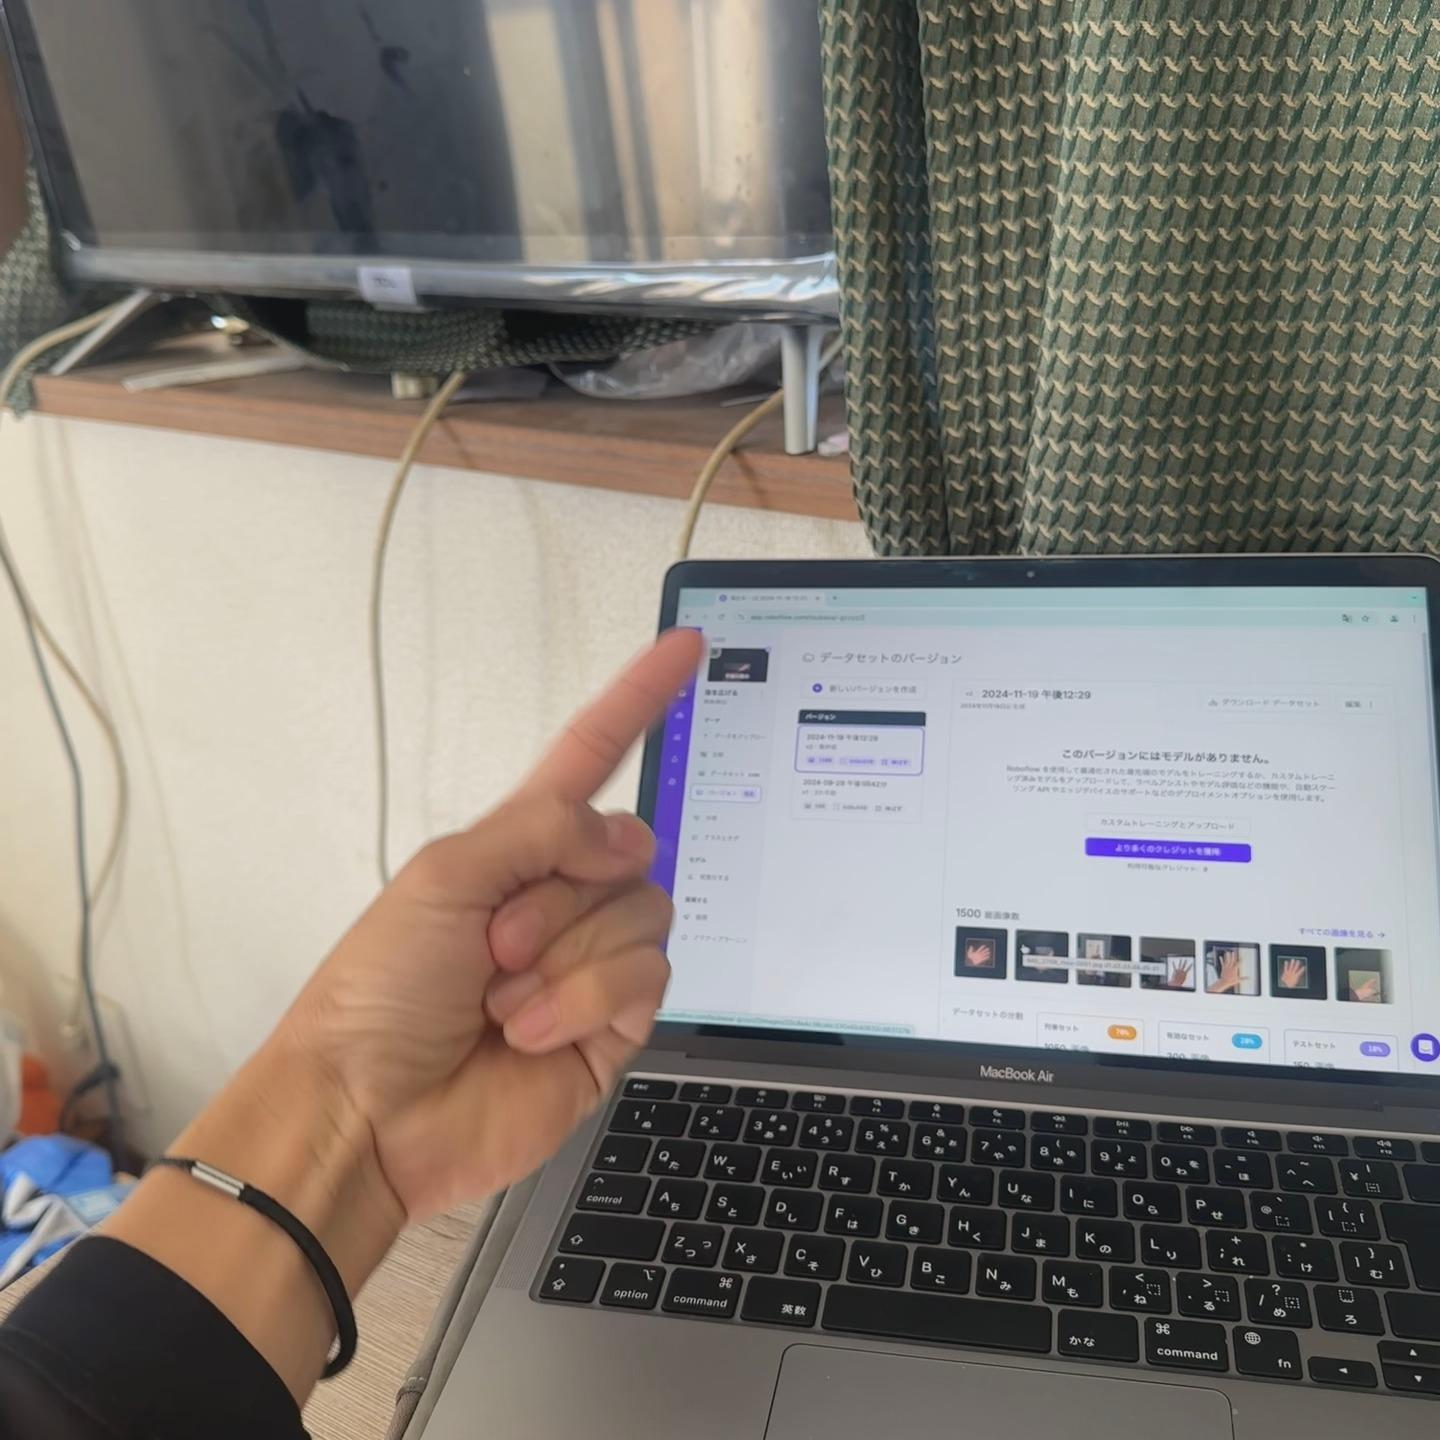without_gloves: (315, 599, 860, 1245)
